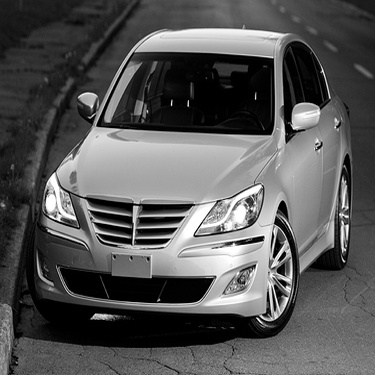car: (4, 28, 356, 339)
